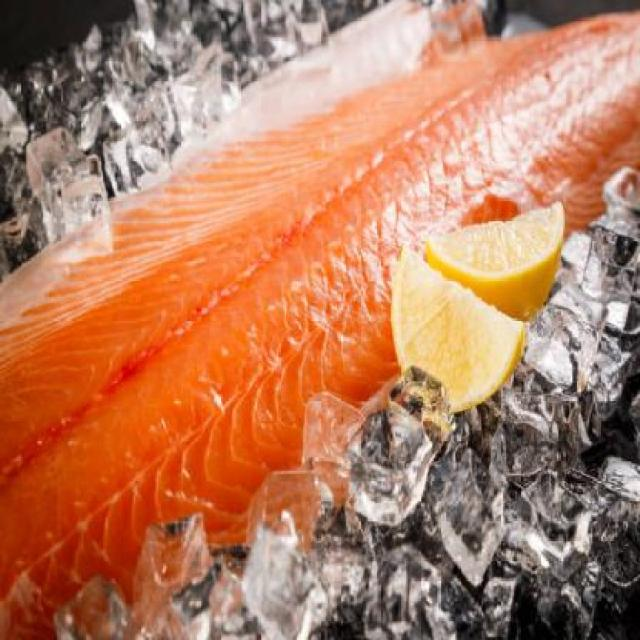salmon: (0, 24, 640, 638)
